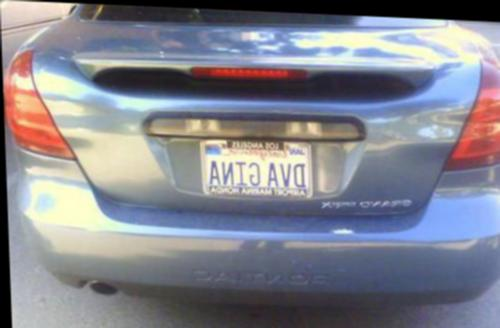License_Plate: (188, 128, 317, 216)
